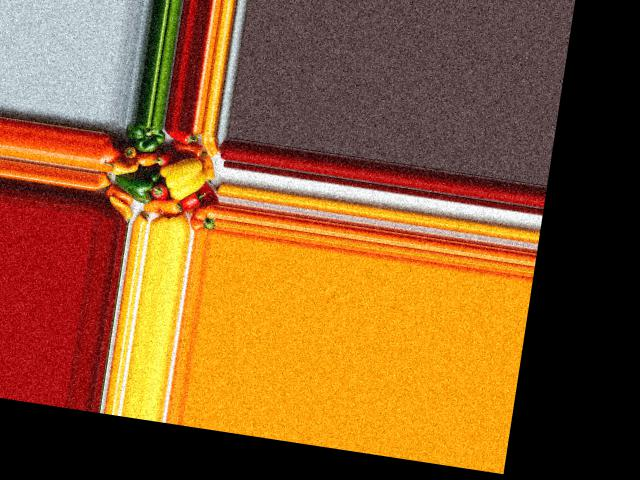bell_pepper: (165, 127, 200, 149)
